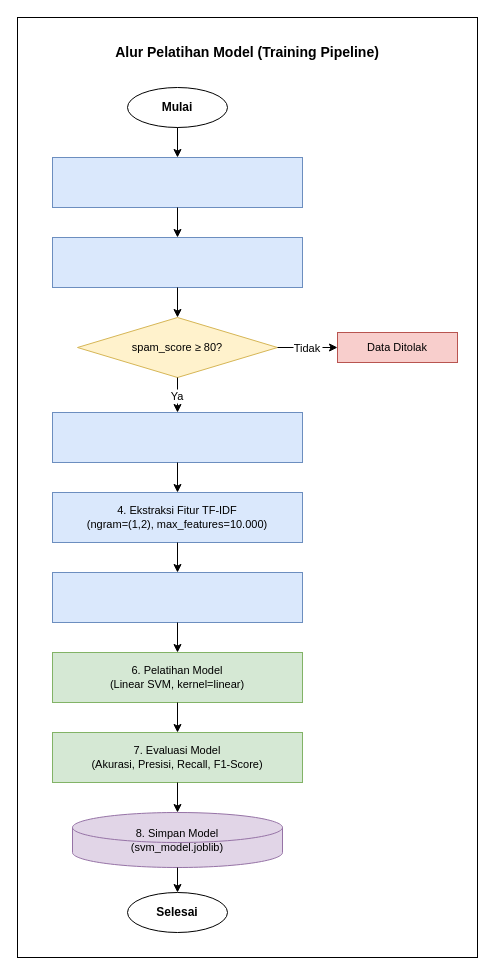
Image size: 495x975. Some labels were removed from this diagram. The centre of each missing label's shape, as x and y in pixels:
1. Pengumpulan Data (Web Scraping via Node.js): (x=177, y=182)
2. Persiapan Dataset (prepare_dataset.py): (x=177, y=262)
3. Prapemrosesan Teks (preprocessing.py (7 tahap)): (x=177, y=437)
5. Pembagian Dataset (Train 80% / Test 20%, stratify=y): (x=177, y=597)
